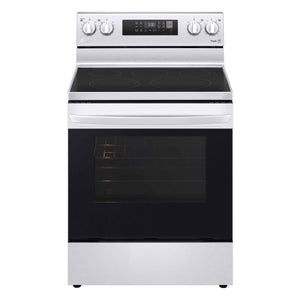stove: (55, 6, 237, 289)
